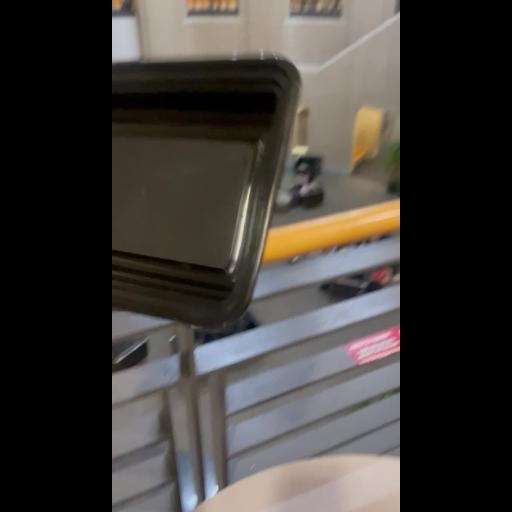rigid_plastic_container: (112, 50, 310, 332)
